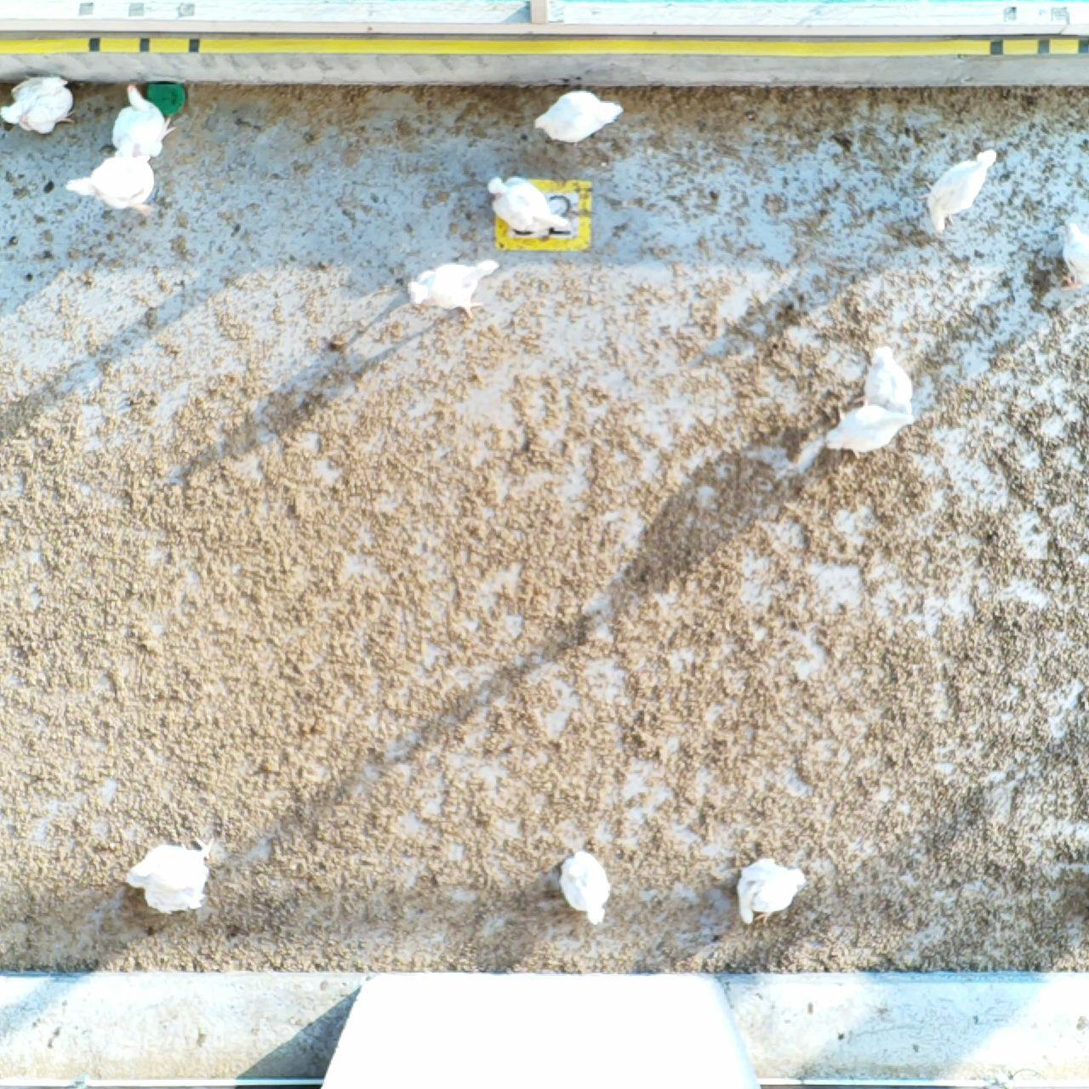chicken: (113, 834, 247, 942), (401, 247, 516, 335), (521, 77, 647, 151), (485, 170, 594, 255), (919, 141, 1000, 244), (66, 142, 170, 219), (0, 64, 98, 145), (722, 847, 809, 932), (553, 844, 630, 939), (104, 87, 186, 167), (822, 400, 913, 464), (860, 339, 918, 435), (1046, 208, 1089, 312)
